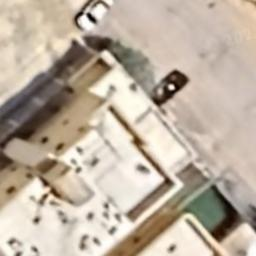sedan: (76, 0, 114, 31)
